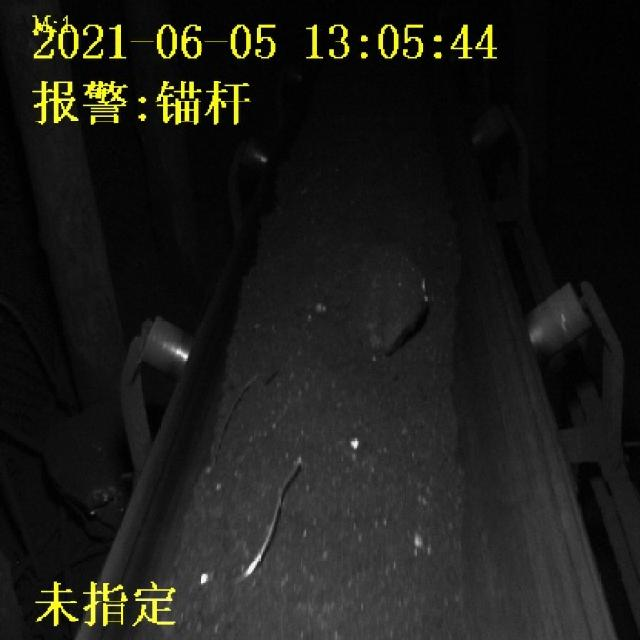bolt: (240, 458, 306, 577), (202, 372, 262, 477)
large_sized_coal: (357, 249, 429, 351)
